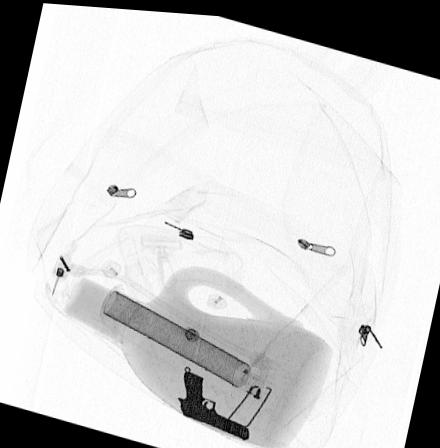Gun: (176, 362, 250, 435)
